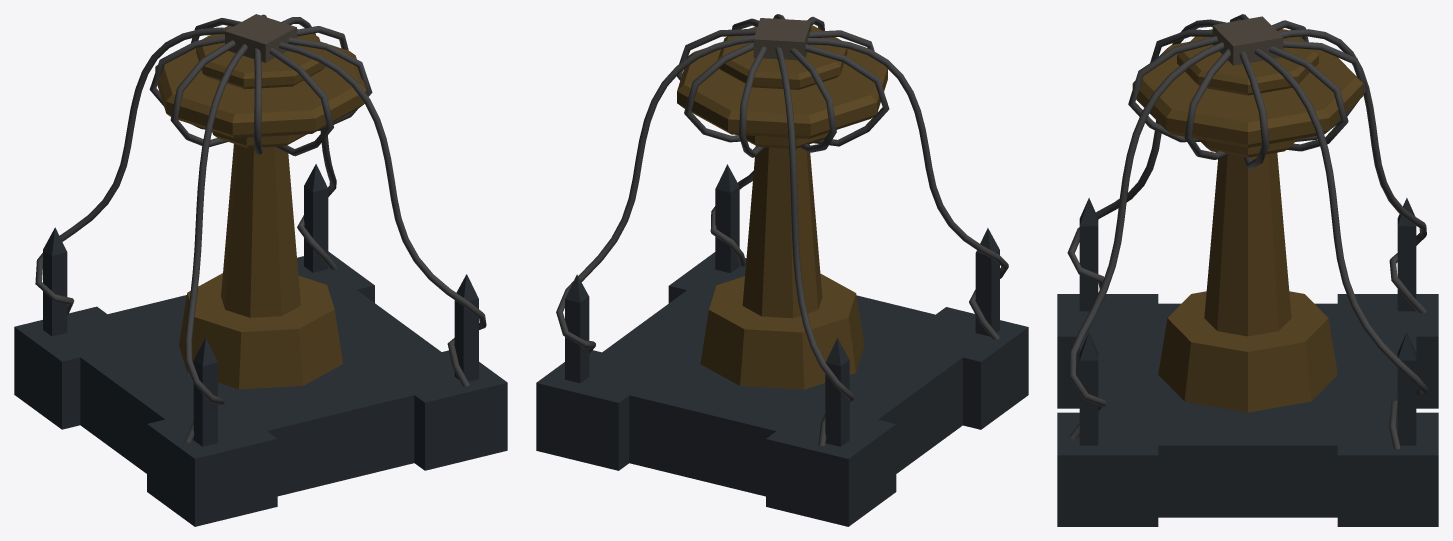
File: EdificioElectrico.fbx
The picture shows the model from 3 angles, left to right: view 1: azimuth 30°, elevation 25°; view 2: azimuth 150°, elevation 25°; view 3: azimuth 270°, elevation 25°; orthographic projection. The views are drawn at different scales.
Parts seen in each view (by area): view 1: polySurface6; view 2: polySurface6; view 3: polySurface6.
Boxes of the visible parts, <box> form: polySurface6: <box>14,14,507,526</box>; polySurface6: <box>536,14,1028,526</box>; polySurface6: <box>1057,14,1438,526</box>.
Size of the model in its own units: 3.51 by 4.22 by 3.51.
